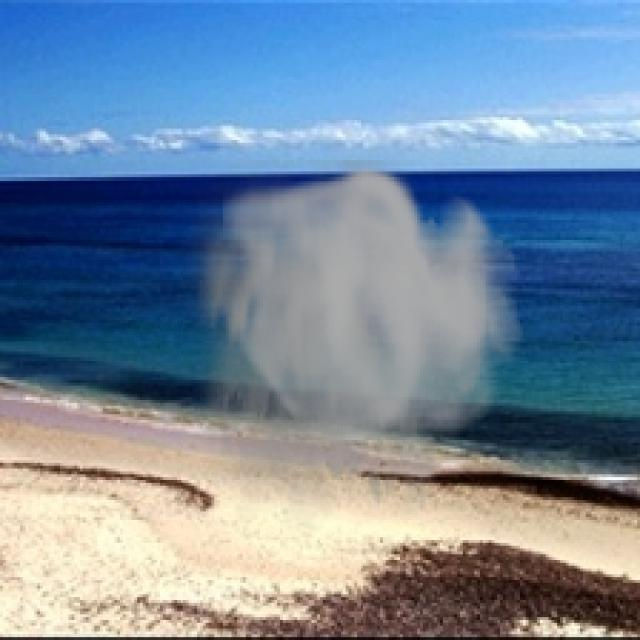smoke: (177, 160, 523, 549)
